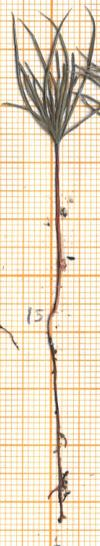flower: (0, 4, 100, 152)
root: (44, 262, 75, 526)
stem: (48, 144, 73, 260)
